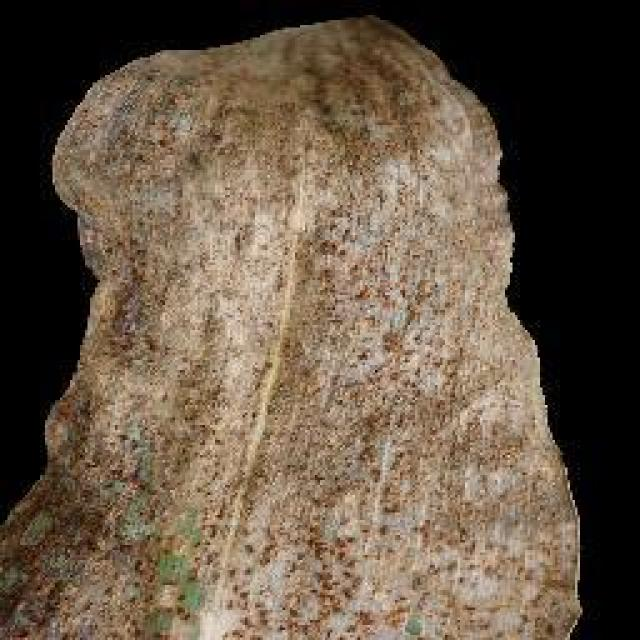Corn Common Rust: (128, 143, 578, 600)
